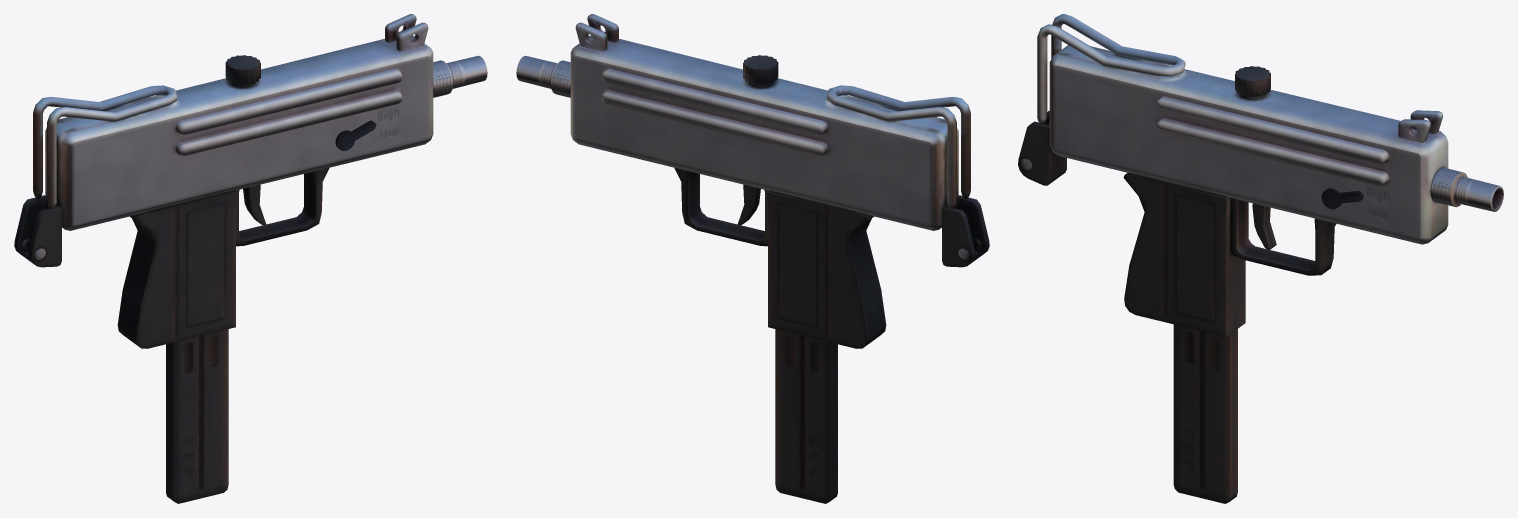
File: mac10.glb
3 views of the same model, side by side, from view 1: azimuth 30°, elevation 25°; view 2: azimuth 150°, elevation 25°; view 3: azimuth 330°, elevation 25° (orthographic). The views are drawn at different scales.
Parts seen in each view (by area): view 1: mac10, mac10magazine_low, mac10derriere_low, mac10rond_low, mac10bt_low, mac10trigger_low; view 2: mac10, mac10magazine_low, mac10derriere_low, mac10rond_low, mac10trigger_low; view 3: mac10, mac10magazine_low, mac10derriere_low, mac10rond_low, mac10trigger_low, mac10bt_low.
Part boxes in pixels (x1,y1,x2,y2): mac10: (45,14,487,348); mac10magazine_low: (166,329,228,503); mac10derriere_low: (14,85,177,267); mac10rond_low: (225,55,260,87); mac10bt_low: (335,120,376,150); mac10trigger_low: (243,184,266,225); mac10: (516,14,958,348); mac10magazine_low: (775,329,837,503); mac10derriere_low: (826,85,989,267); mac10rond_low: (743,55,778,87); mac10trigger_low: (737,184,760,225); mac10: (1049,45,1503,336); mac10magazine_low: (1173,324,1237,503); mac10derriere_low: (1018,14,1185,185); mac10rond_low: (1235,66,1270,99); mac10trigger_low: (1252,203,1276,249); mac10bt_low: (1321,188,1363,209).
Bounding box in the file's own units: 0.2346 × 0.2092 × 0.0286.
1 material, 1 textured.
